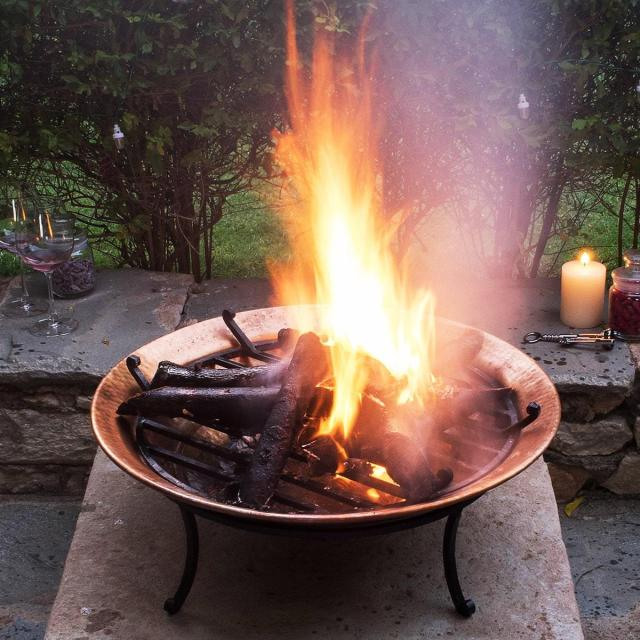fire: (262, 0, 439, 454)
